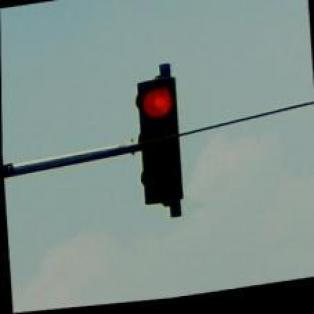Semoforo Rojo: (134, 78, 184, 208)
